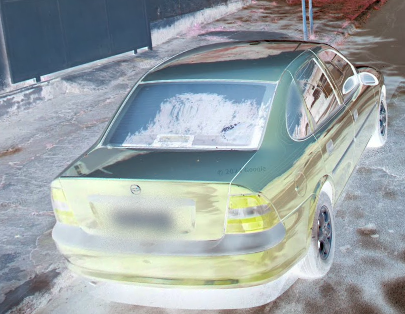car: (53, 40, 389, 307)
